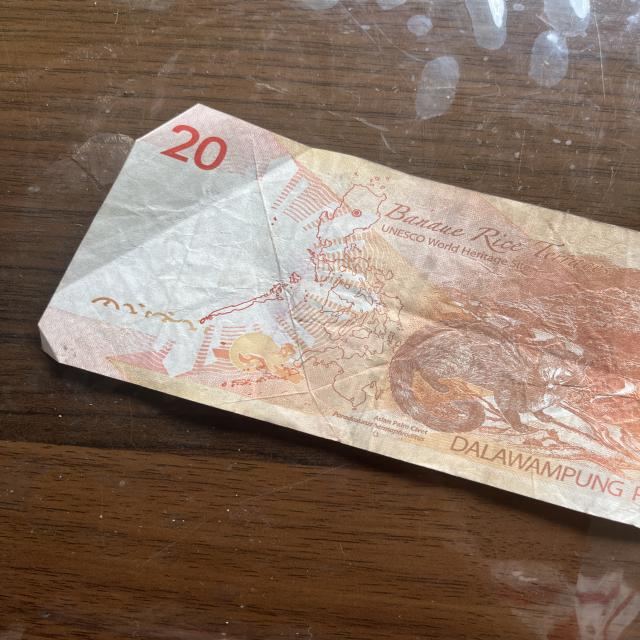20_civet: (390, 307, 584, 430)
20_civet_watermark: (220, 333, 313, 372)
